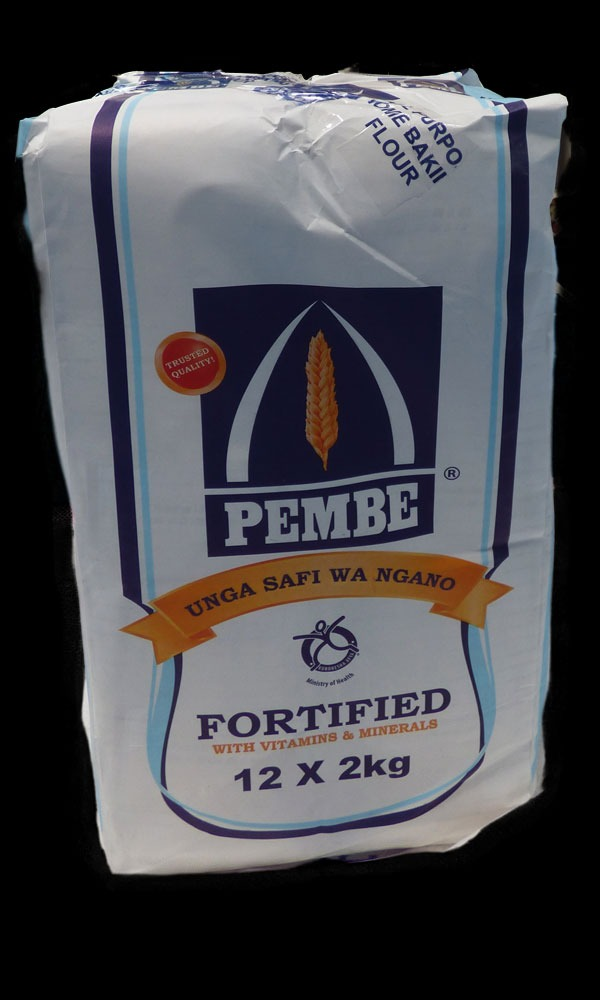wheat_flour_blue_label: (41, 57, 553, 861)
